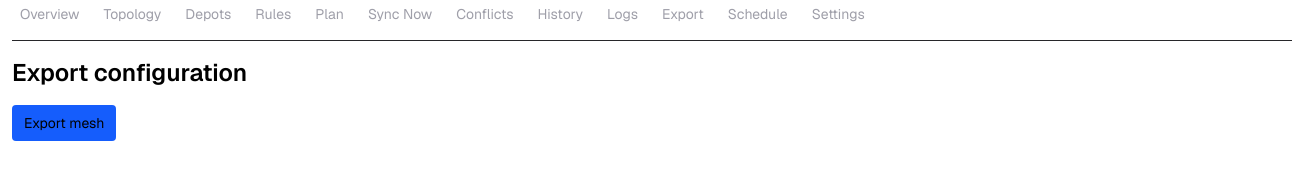
Test: MeshExportClient [IMPL-MESH_GUI] › export_mesh_btn_triggers_download_message
Click the button with test id "export-mesh-btn".
click(64, 123)  # box [12,105,116,141]
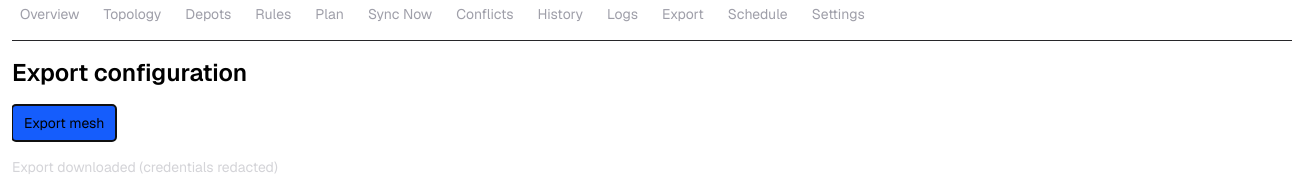
Check: the text with test id "export-message" shows "redacted", box [12,158,278,176]
